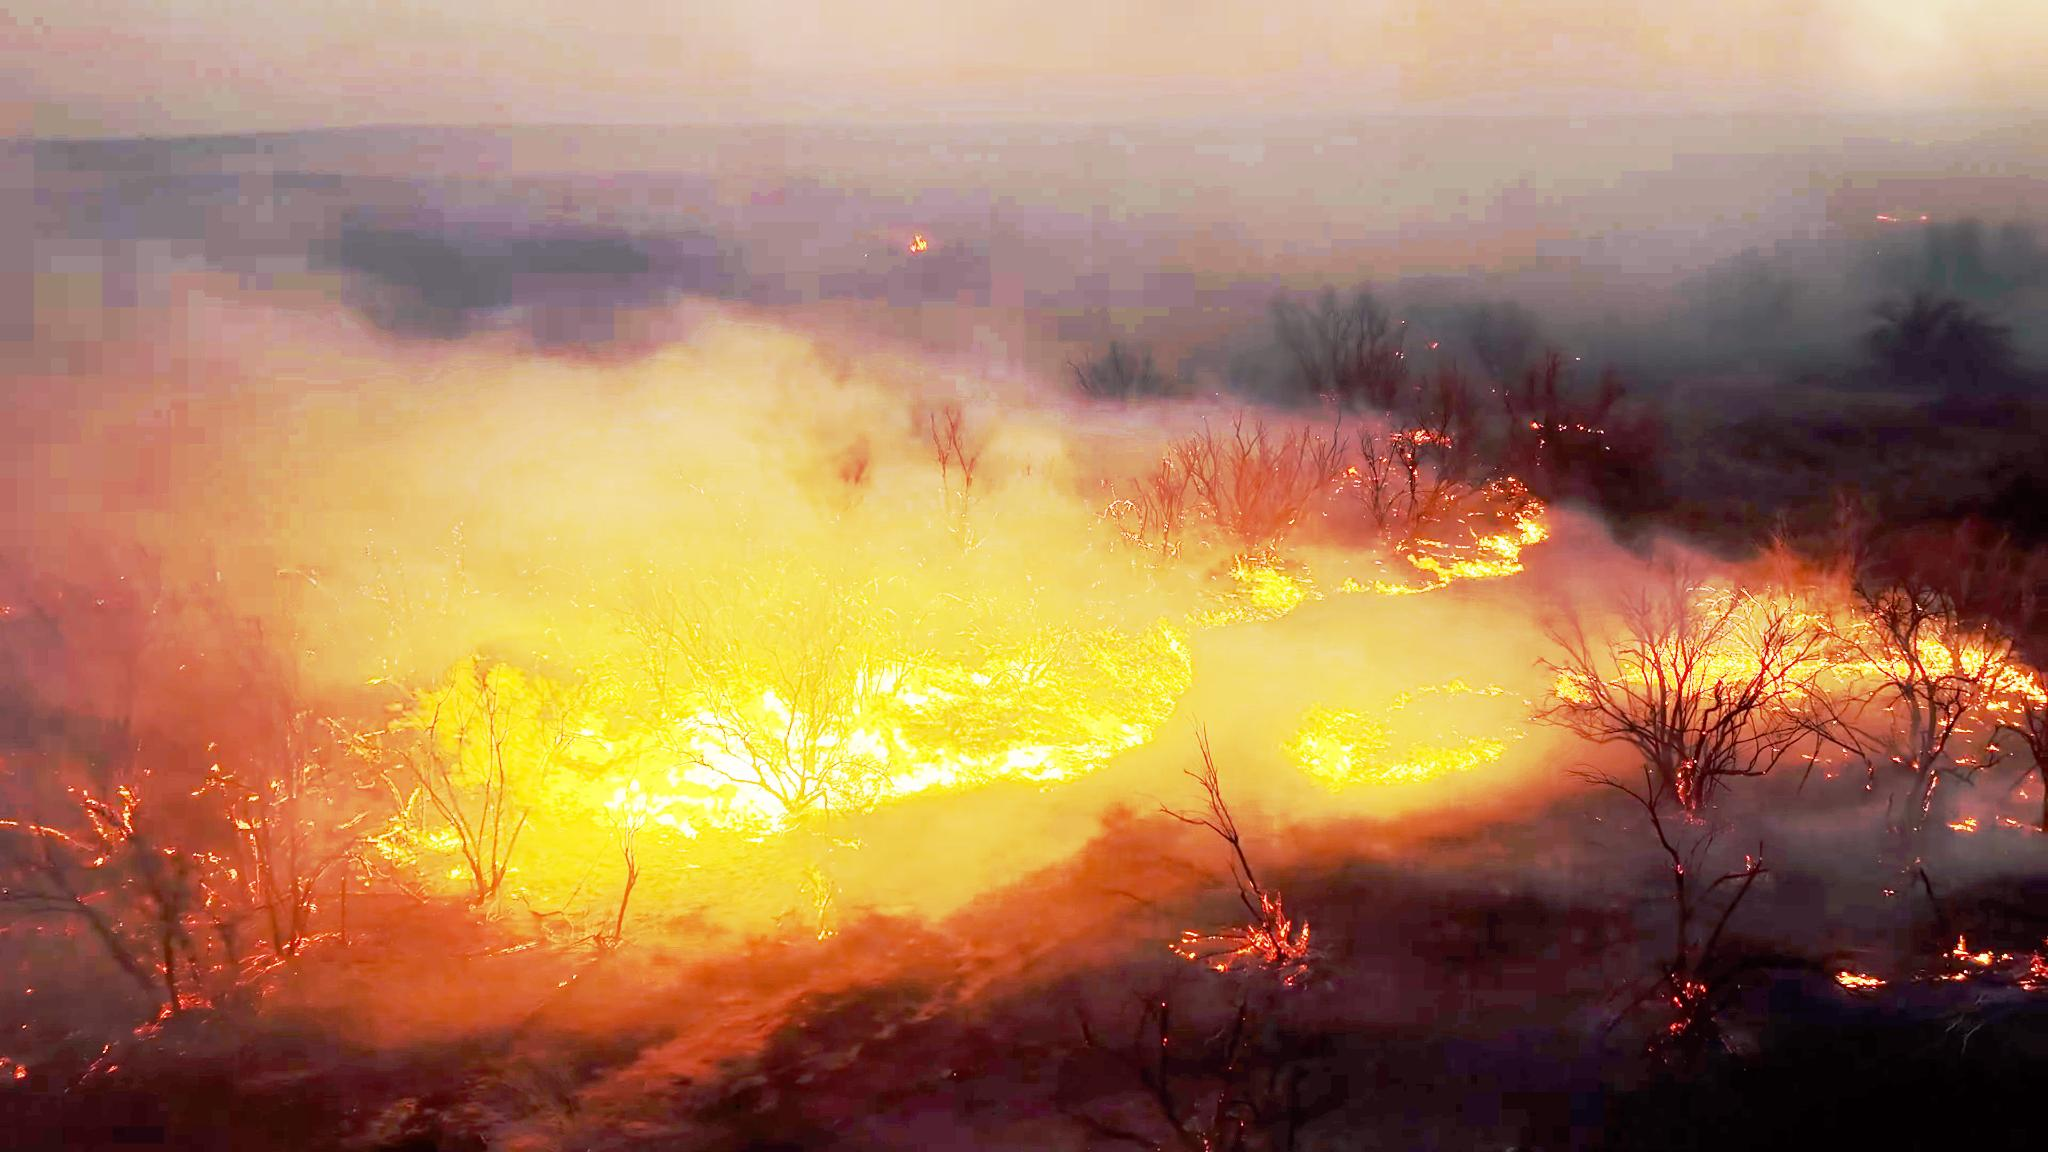fire: (852, 603, 1131, 793), (522, 630, 786, 826), (1288, 663, 1495, 802)
smoke: (13, 335, 684, 622)
